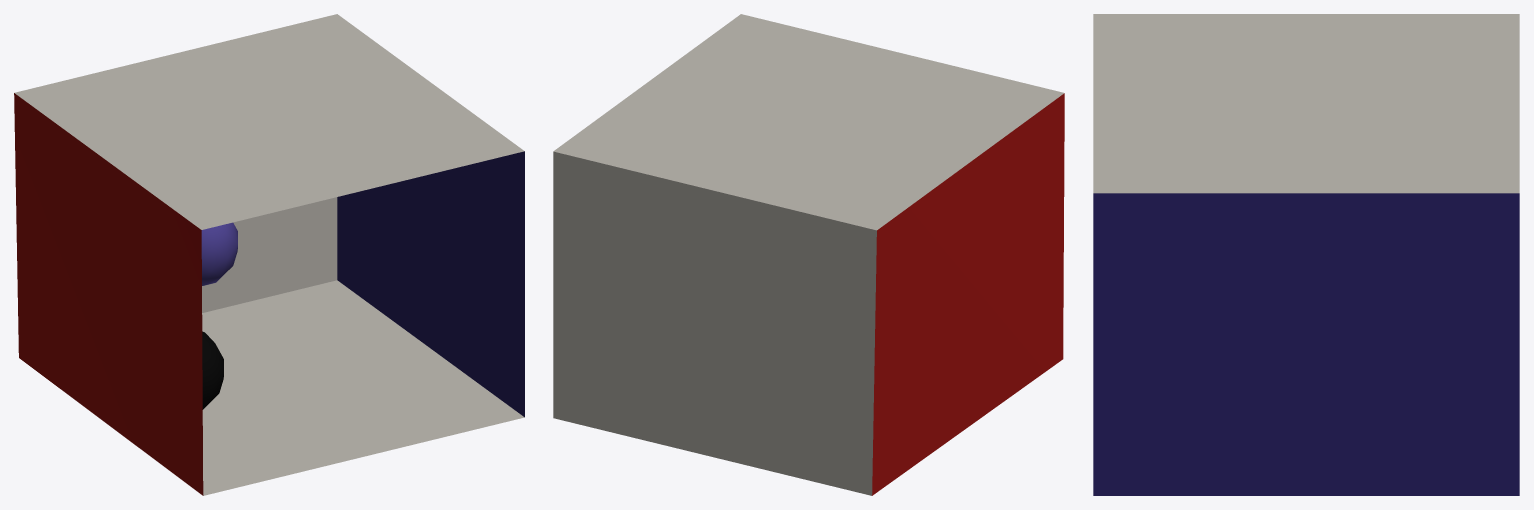
Rendered from CornellBox-Sphere-748.obj.
3 renders of one model, left to right at view 1: azimuth 30°, elevation 25°; view 2: azimuth 150°, elevation 25°; view 3: azimuth 270°, elevation 25°, orthographic. The views are drawn at different scales.
Parts seen in each view (by area): view 1: ceiling, leftWall, floor, rightWall, backWall, leftSphere, rightSphere; view 2: backWall, ceiling, leftWall; view 3: rightWall, ceiling.
Part boxes in pixels (<box>): ceiling: <box>14,14,524,229</box>; leftWall: <box>14,93,203,495</box>; floor: <box>202,280,524,495</box>; rightWall: <box>337,151,524,417</box>; backWall: <box>202,197,337,312</box>; leftSphere: <box>201,222,237,285</box>; rightSphere: <box>202,331,223,409</box>; backWall: <box>553,151,876,495</box>; ceiling: <box>553,14,1064,230</box>; leftWall: <box>872,93,1064,495</box>; rightWall: <box>1093,193,1519,495</box>; ceiling: <box>1093,14,1519,193</box>.
Size of the model in its own units: 2.02 by 1.59 by 2.03.
